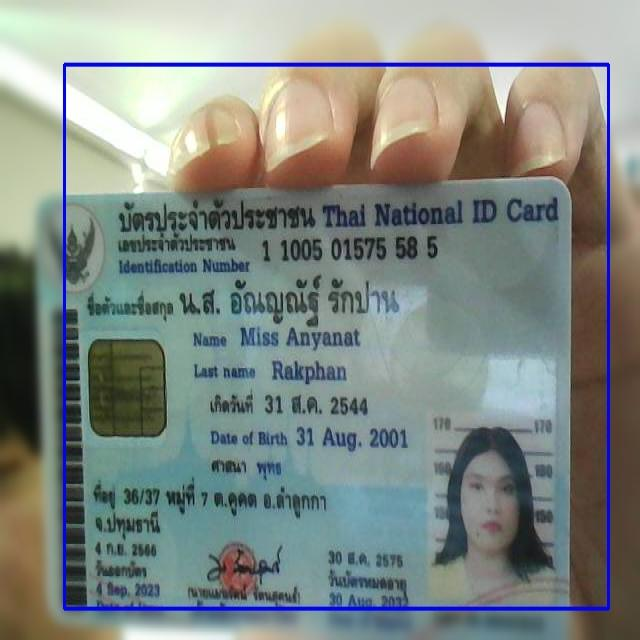Address_th: (90, 474, 335, 544)
Date_of_Birth: (293, 421, 411, 455)
Date_of_Expiry: (324, 590, 420, 617)
Date_of_Issue: (89, 578, 165, 603)
First_Name: (237, 322, 363, 353)
ID_Number: (256, 233, 442, 268)
Image: (429, 413, 553, 602)
Last_Name: (269, 356, 349, 389)
Thai_Name: (177, 272, 407, 328)
